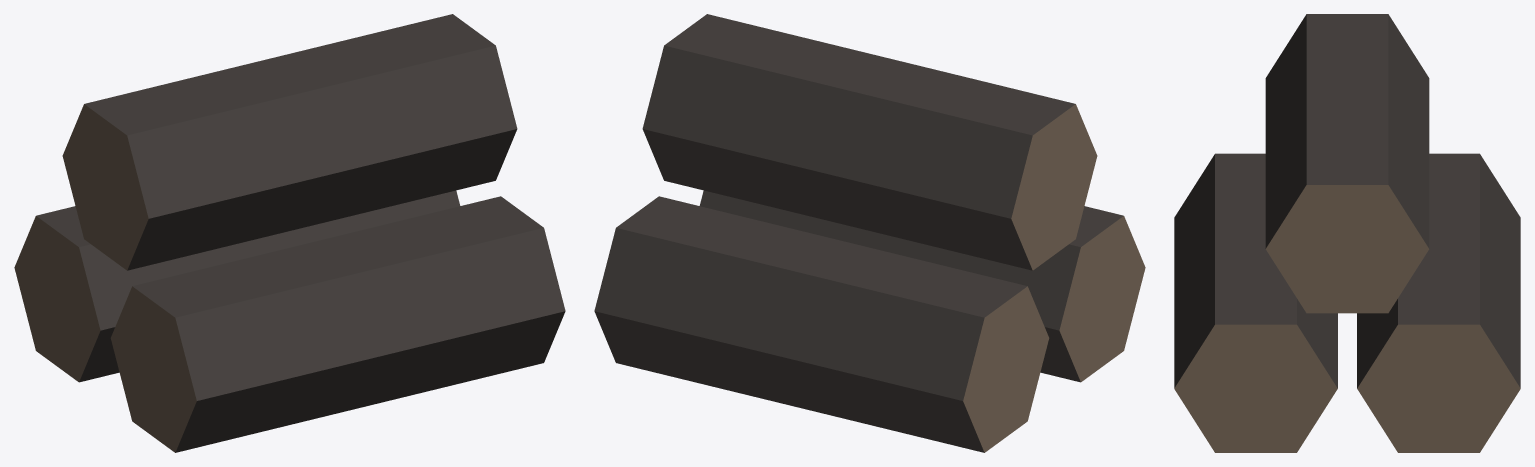
The model's file is charcoal.glb.
The picture shows the model from 3 angles, left to right: view 1: azimuth 30°, elevation 25°; view 2: azimuth 150°, elevation 25°; view 3: azimuth 270°, elevation 25°; orthographic projection. The views are drawn at different scales.
Visible parts, largest first — view 1: charcoal; view 2: charcoal; view 3: charcoal.
Part boxes in pixels (x1,y1,x2,y2): charcoal: [14, 14, 565, 452]; charcoal: [594, 14, 1145, 452]; charcoal: [1174, 14, 1520, 452].
Size of the model in its own units: 0.84 by 0.6144 by 0.72.
